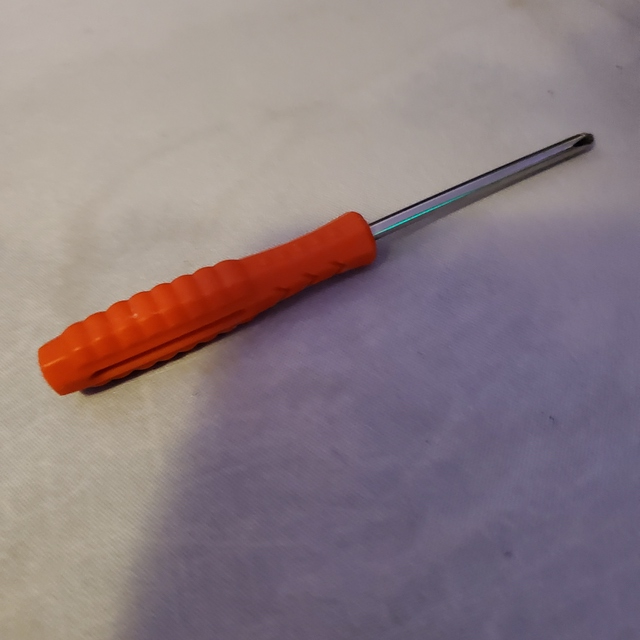screwdriver: (34, 122, 607, 407)
